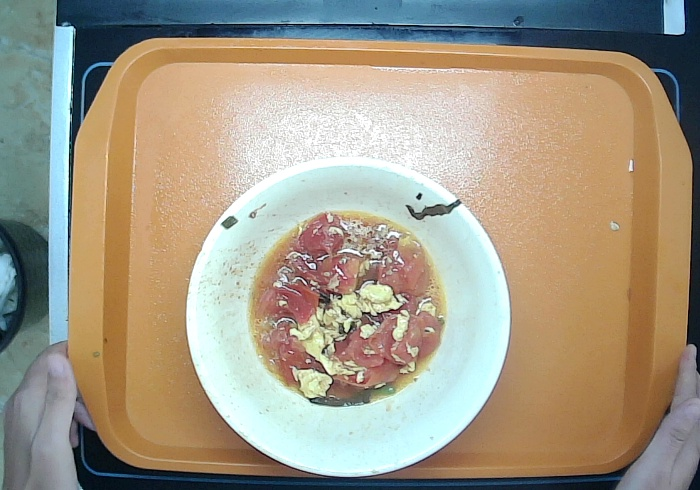ZNLD-Da_Tang_Wan: (186, 154, 513, 480)
